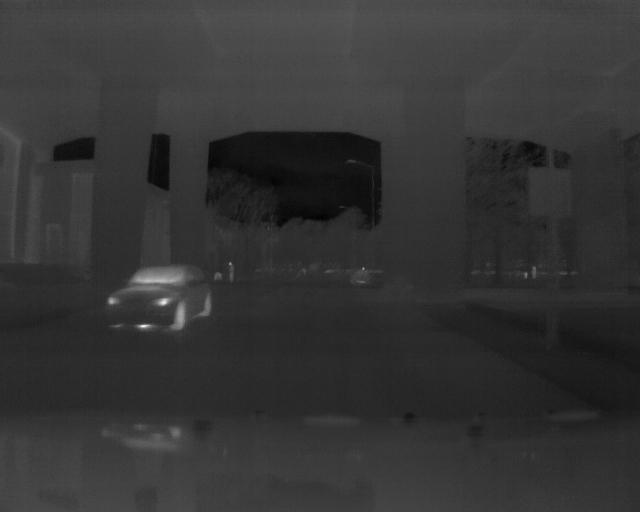car: (106, 263, 215, 337)
person: (228, 261, 233, 287)
